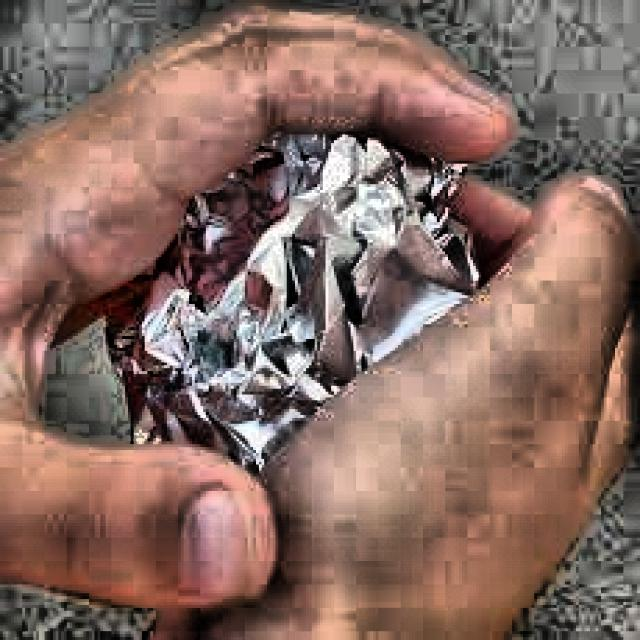Foil: (123, 86, 511, 556)
